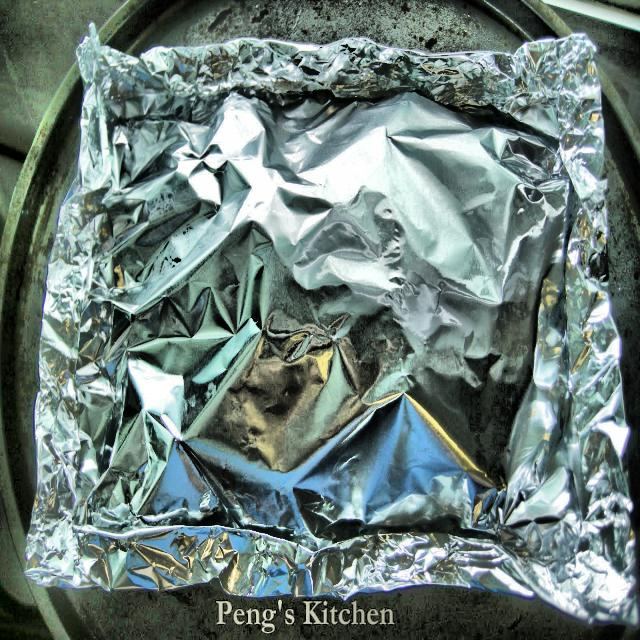Foil: (16, 15, 640, 635)
